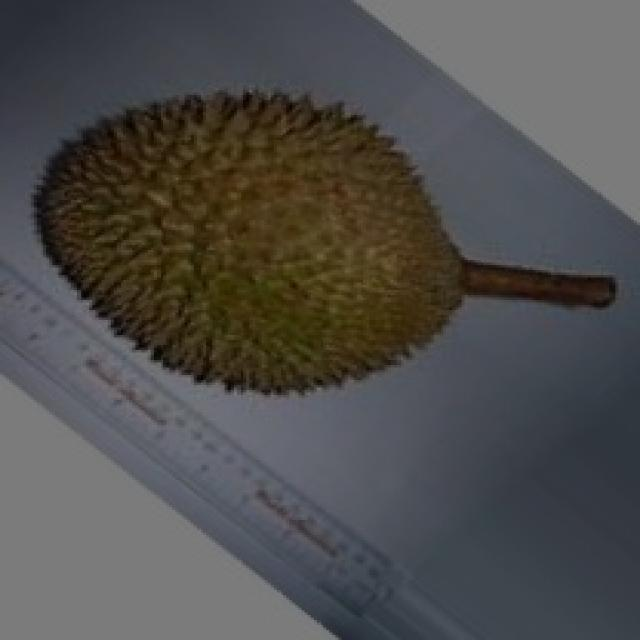fruit: (6, 55, 394, 450)
